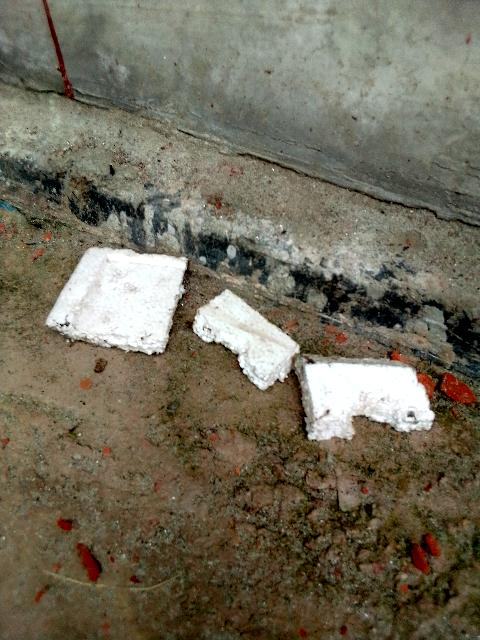cocksheet: (31, 231, 457, 447)
